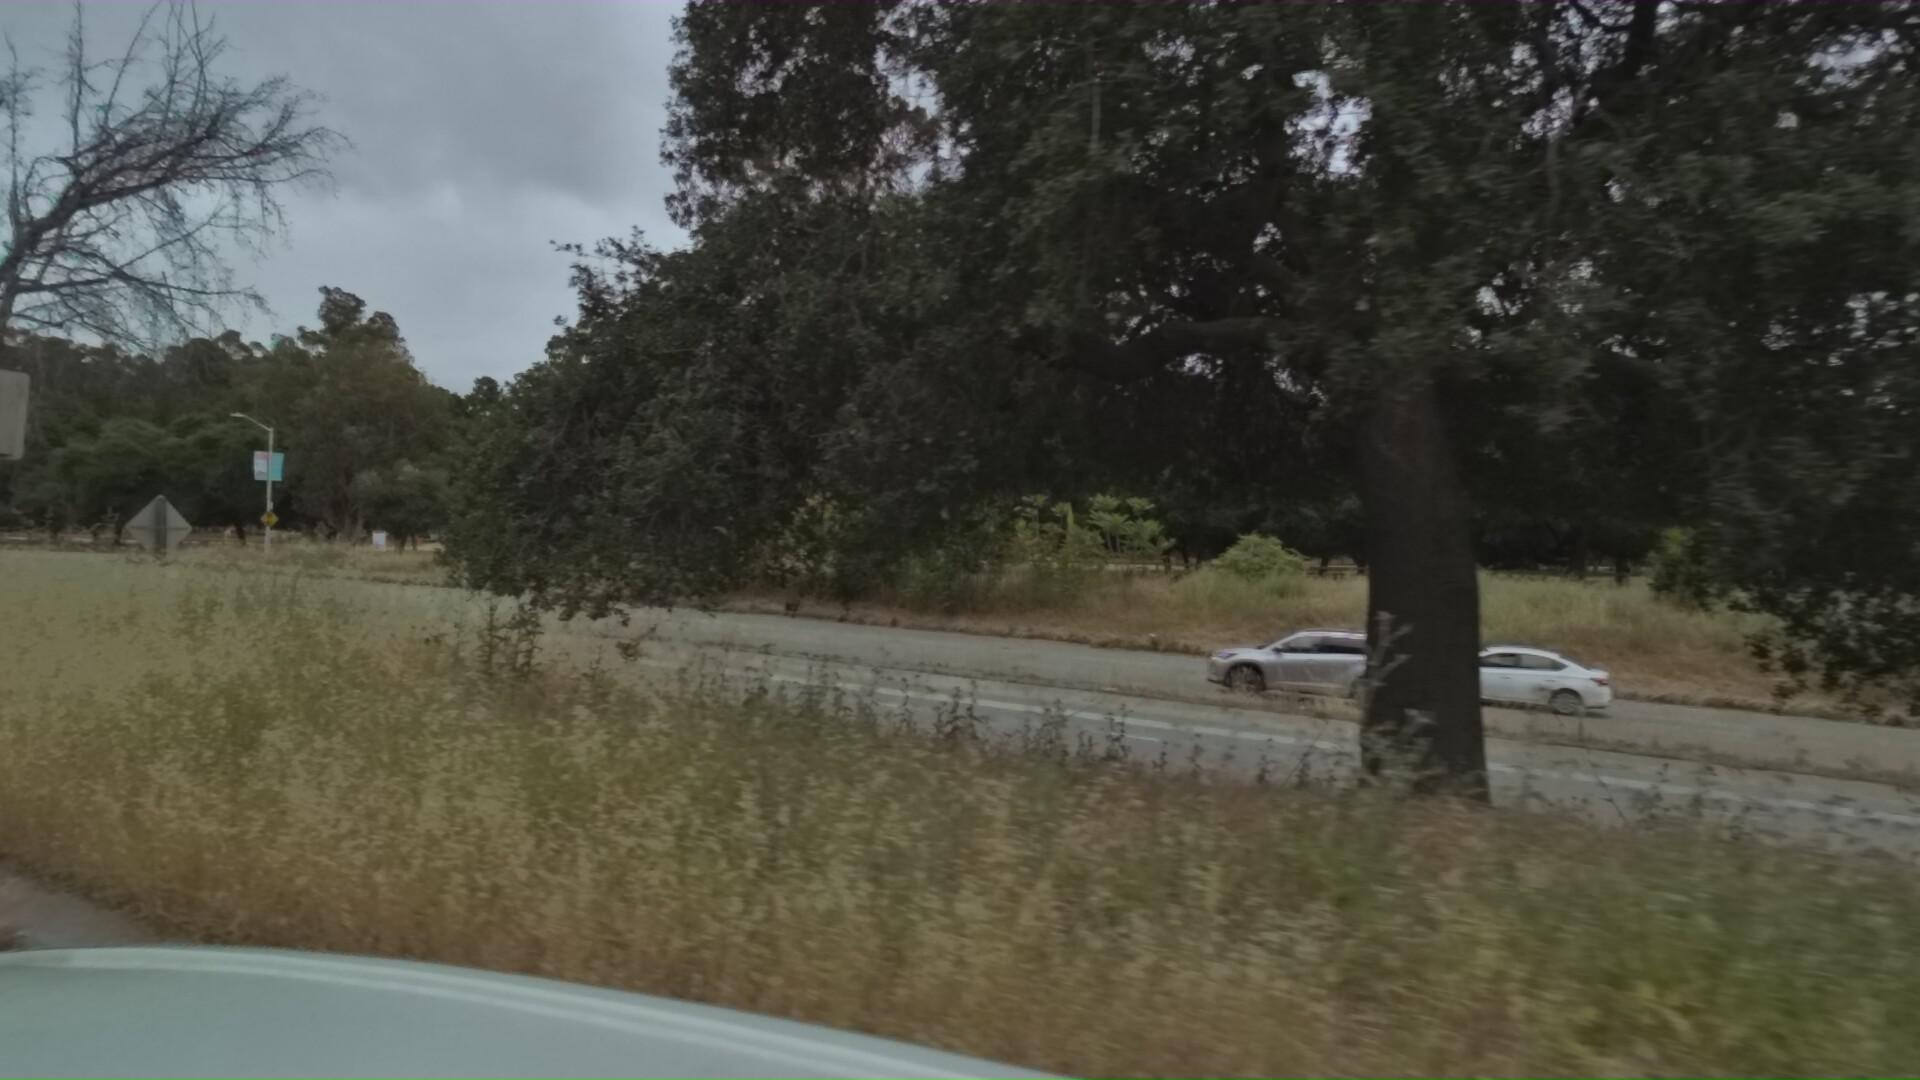car: (1142, 604, 1369, 709), (1360, 629, 1582, 731)
